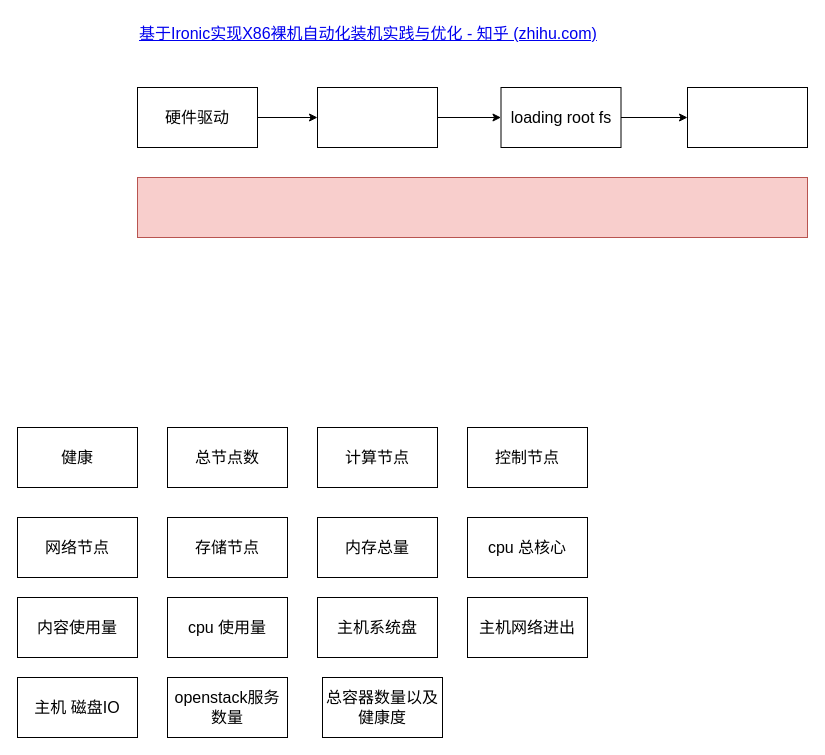
This 825x755 diagram has some shape labels left out. Here are the shapes that lost their labels. From the top down, the box of each, then its label:
(316, 86, 438, 148): loading temp fs initramfs
(686, 86, 808, 148): loading kernel
(136, 176, 808, 238): 问题：需要解决 initramfs 用来适配目标物理机的硬件驱动
